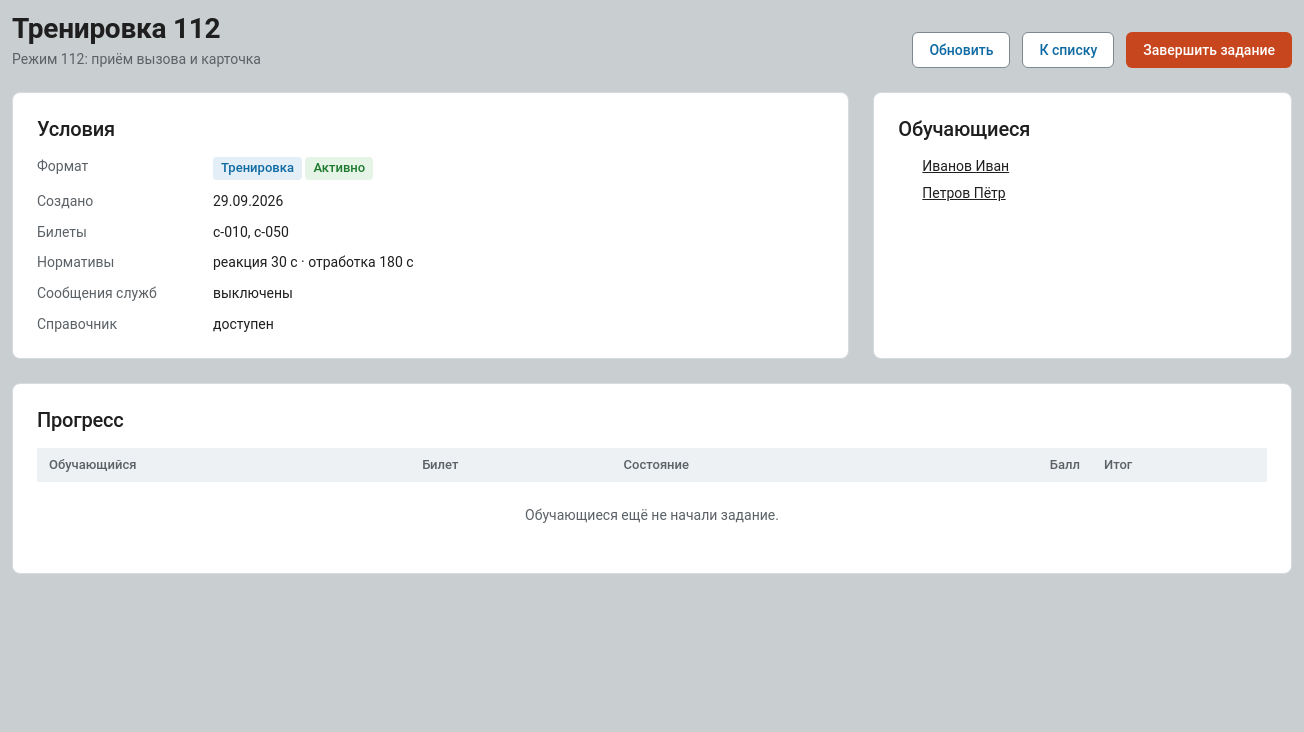
Test: деталь назначения › 403 при завершении показывается сообщением сервера
Click the button "Завершить задание". click: click(1209, 50)
box: [1126,32,1292,68]
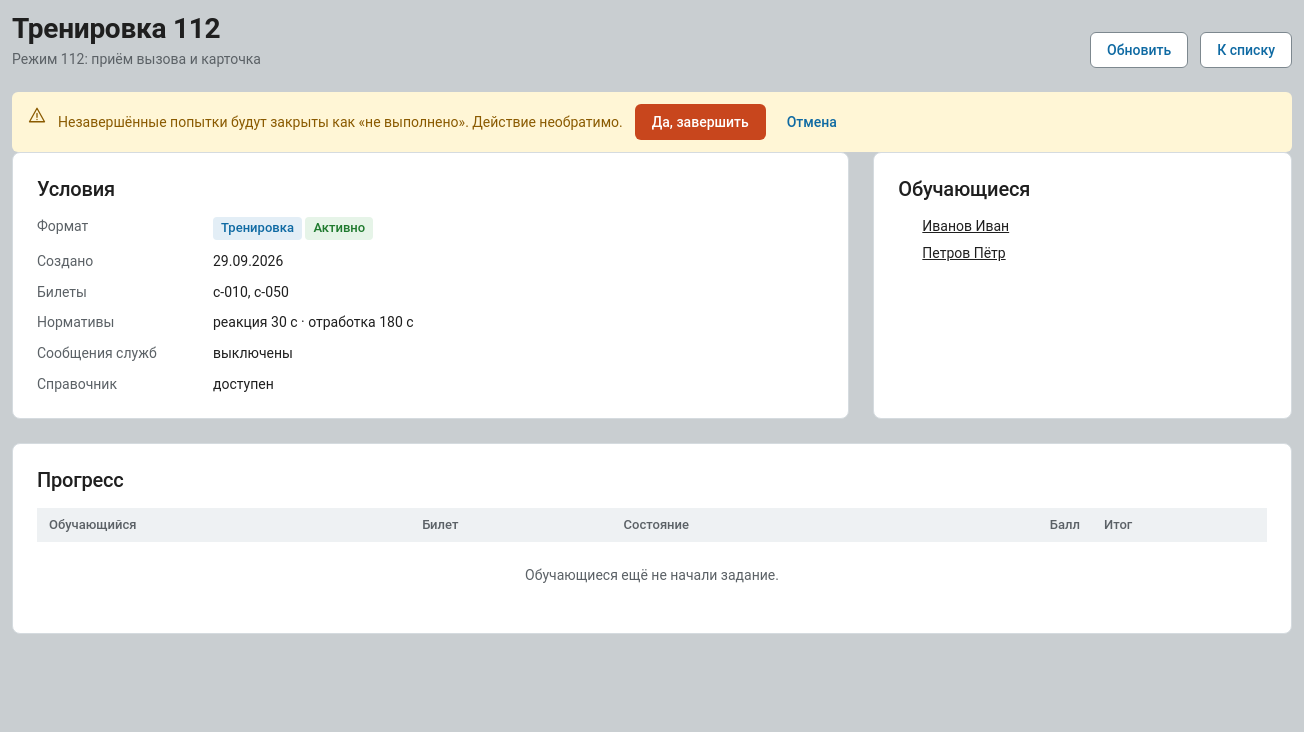
Click the button "Да, завершить". click: click(700, 122)
box: [635,104,766,140]
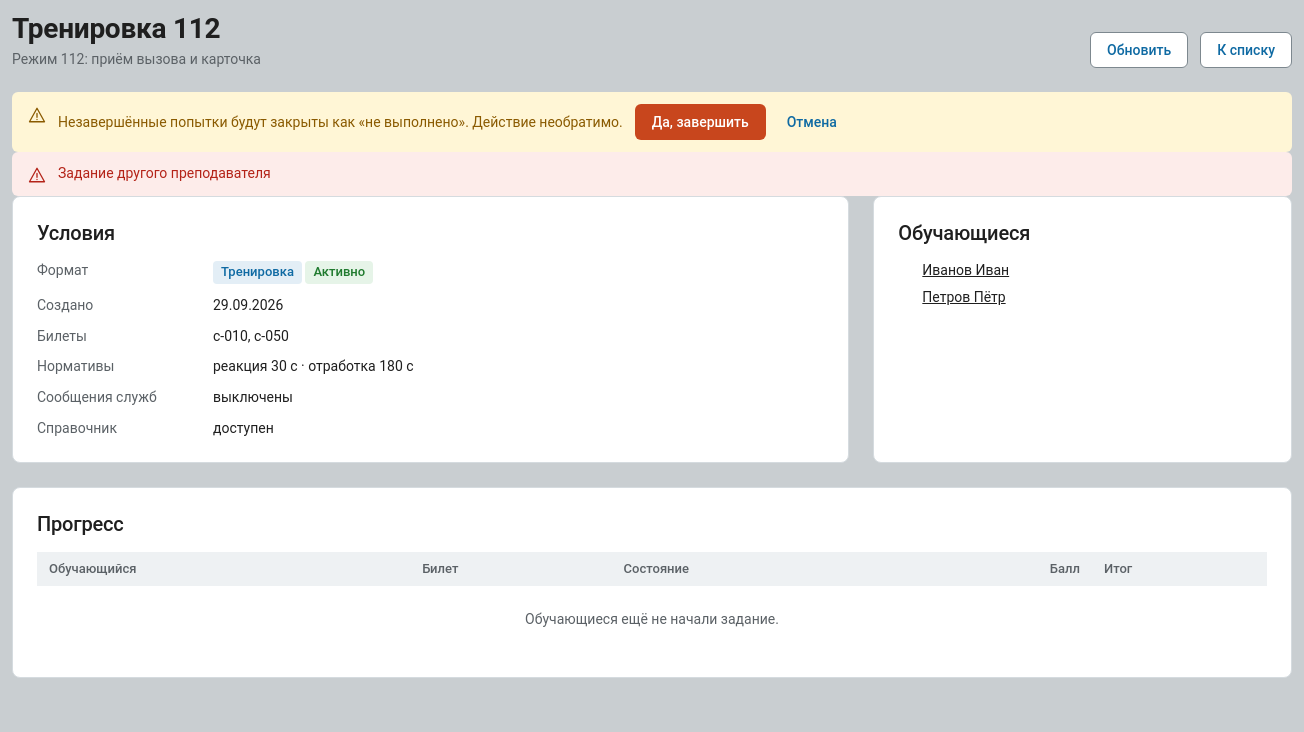
Expected: the text "Задание другого преподавателя" is shown, [58,164,271,183]
